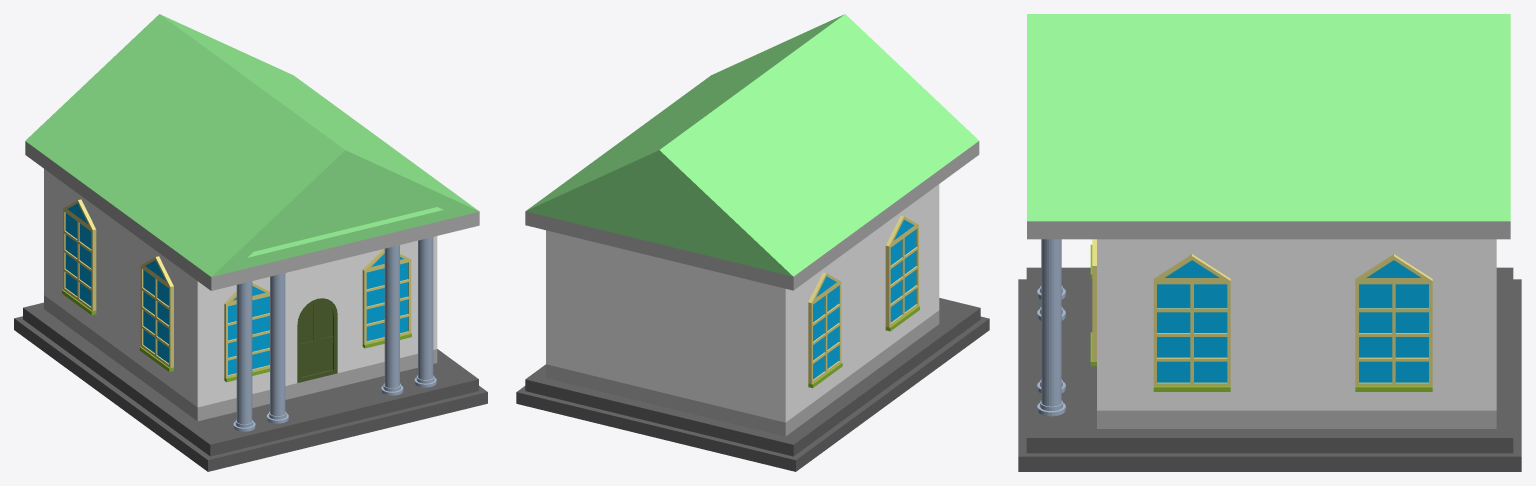
File: bank.FBX
3 renders of one model, left to right at view 1: azimuth 30°, elevation 25°; view 2: azimuth 150°, elevation 25°; view 3: azimuth 270°, elevation 25°, orthographic. The views are drawn at different scales.
Visible parts, largest first — view 1: Group48, Group54, Group51, Group50, Group47, Group53, Group19, Group13, Group1, Group7, Group16, Group38 (+3 smaller); view 2: Group48, Group54, Group51, Group50, Group47, Group53, Group13, Group19; view 3: Group48, Group54, Group51, Group50, Group10, Group4, Group47, Group53, Group32, Group7.
Boxes of the visible parts, x1,y1,x2,y2 form: Group48: [25, 14, 479, 276]; Group54: [44, 169, 437, 407]; Group51: [23, 302, 478, 456]; Group50: [14, 316, 487, 471]; Group47: [25, 141, 479, 290]; Group53: [44, 295, 437, 421]; Group19: [63, 199, 96, 311]; Group13: [140, 256, 173, 367]; Group1: [297, 298, 337, 382]; Group7: [362, 249, 411, 344]; Group16: [224, 283, 269, 378]; Group38: [236, 282, 252, 424]; Group48: [526, 14, 978, 276]; Group54: [546, 184, 939, 422]; Group51: [525, 298, 980, 456]; Group50: [516, 316, 989, 471]; Group47: [525, 141, 979, 290]; Group53: [546, 310, 939, 436]; Group13: [885, 216, 918, 327]; Group19: [808, 272, 841, 384]; Group48: [1027, 14, 1510, 221]; Group54: [1097, 239, 1496, 410]; Group51: [1026, 267, 1513, 453]; Group50: [1018, 279, 1521, 471]; Group10: [1153, 254, 1230, 386]; Group4: [1355, 254, 1432, 386]; Group47: [1027, 221, 1510, 239]; Group53: [1097, 410, 1496, 428]; Group32: [1041, 239, 1061, 406]; Group7: [1092, 239, 1096, 361].
Size of the model in its own units: 9.84 by 9.57 by 11.81.
